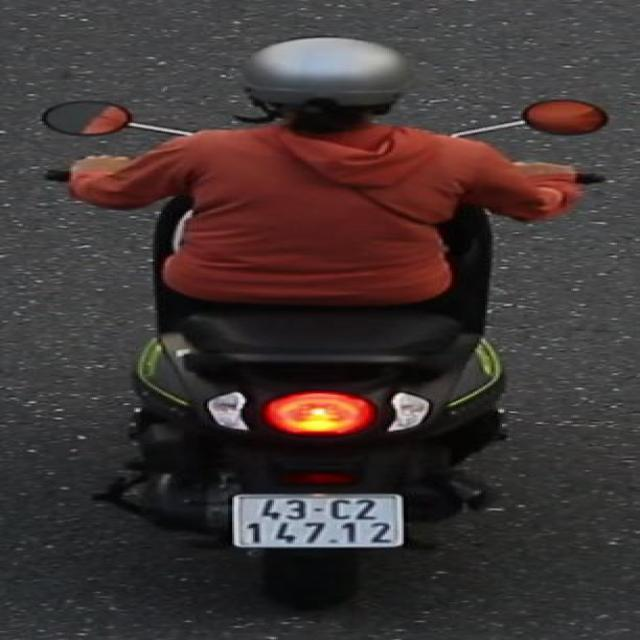LP: (228, 490, 412, 556)
helmet: (231, 32, 426, 139)
